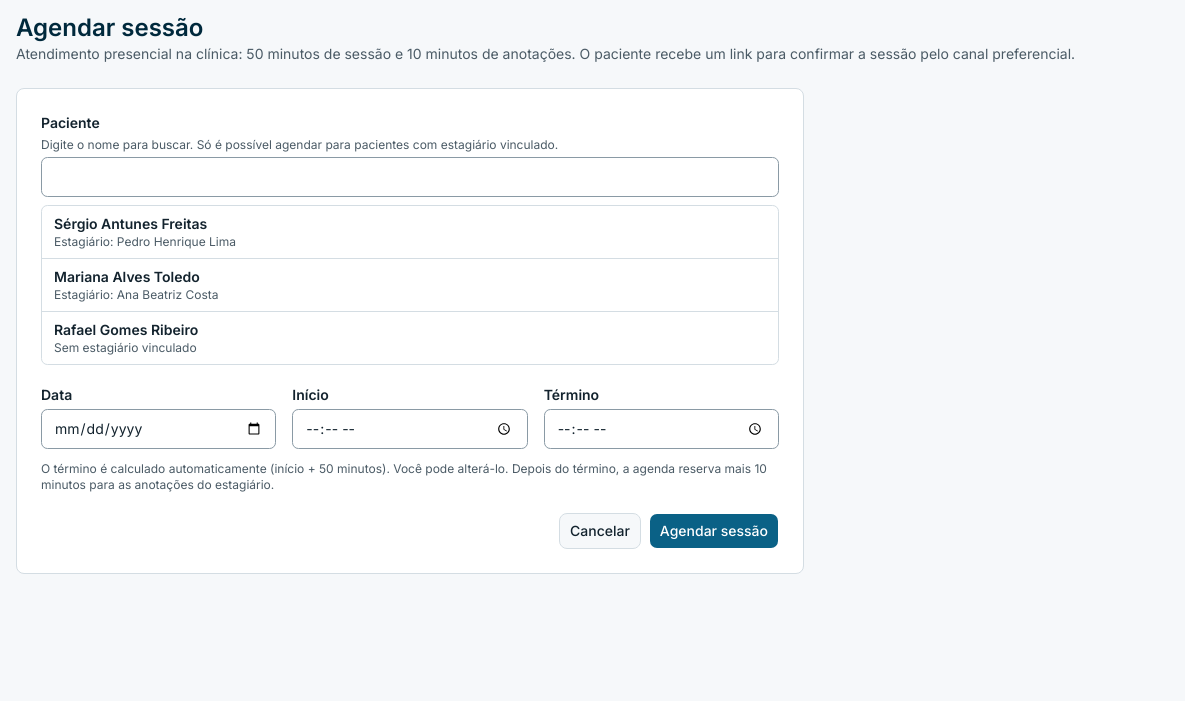
Test case: Agendar sessão (RF10) › no conflito, mostra a sessão ocupada e o primeiro horário livre
Click the button "Sérgio Antunes Freitas Estagiário: Pedro Henrique Lima".
click(131, 224)  # box [42,206,778,258]
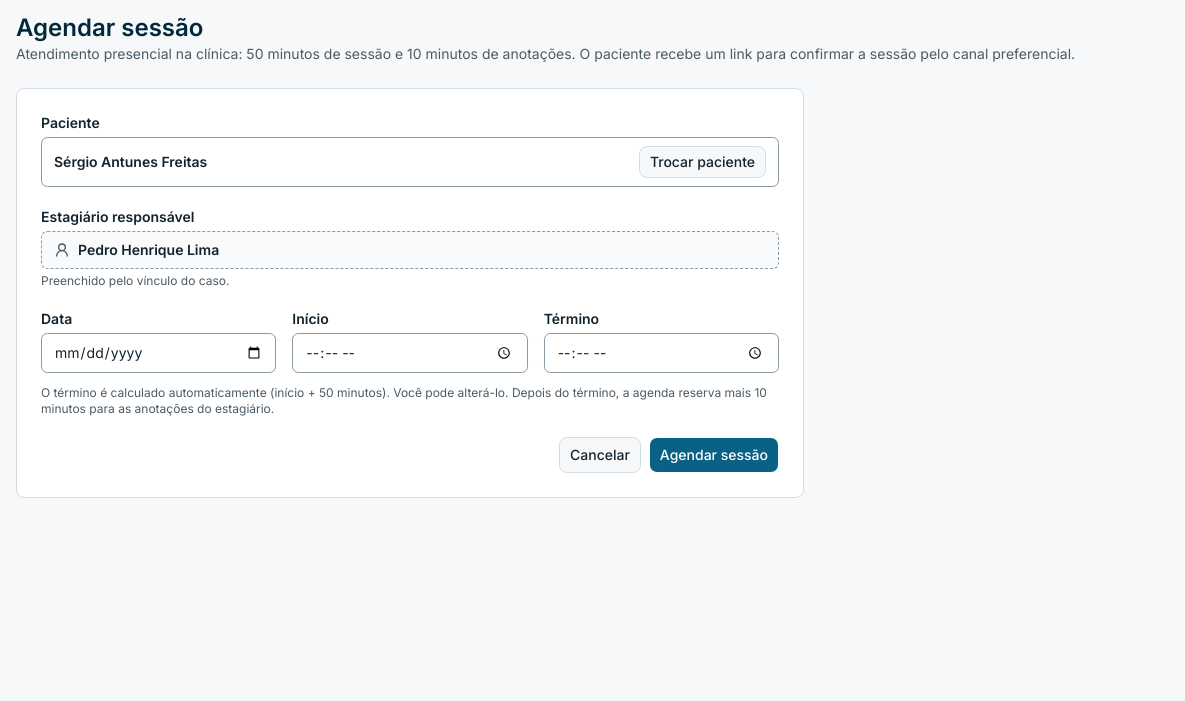
Type "2026-12-03" into the date field labelled "Data".
click(159, 353); type("2026-12-03")  # box [41,333,276,373]
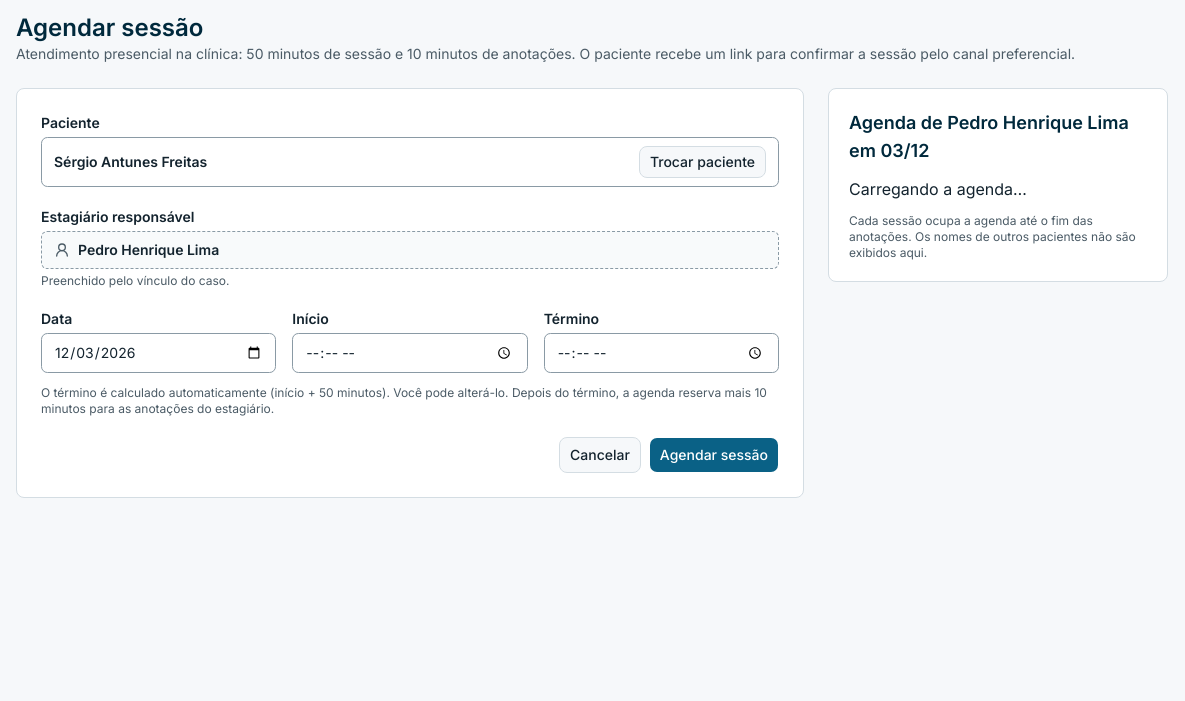
Type "14:50" into the time field labelled "Início".
click(410, 353); type("14:50")  # box [292,333,528,373]
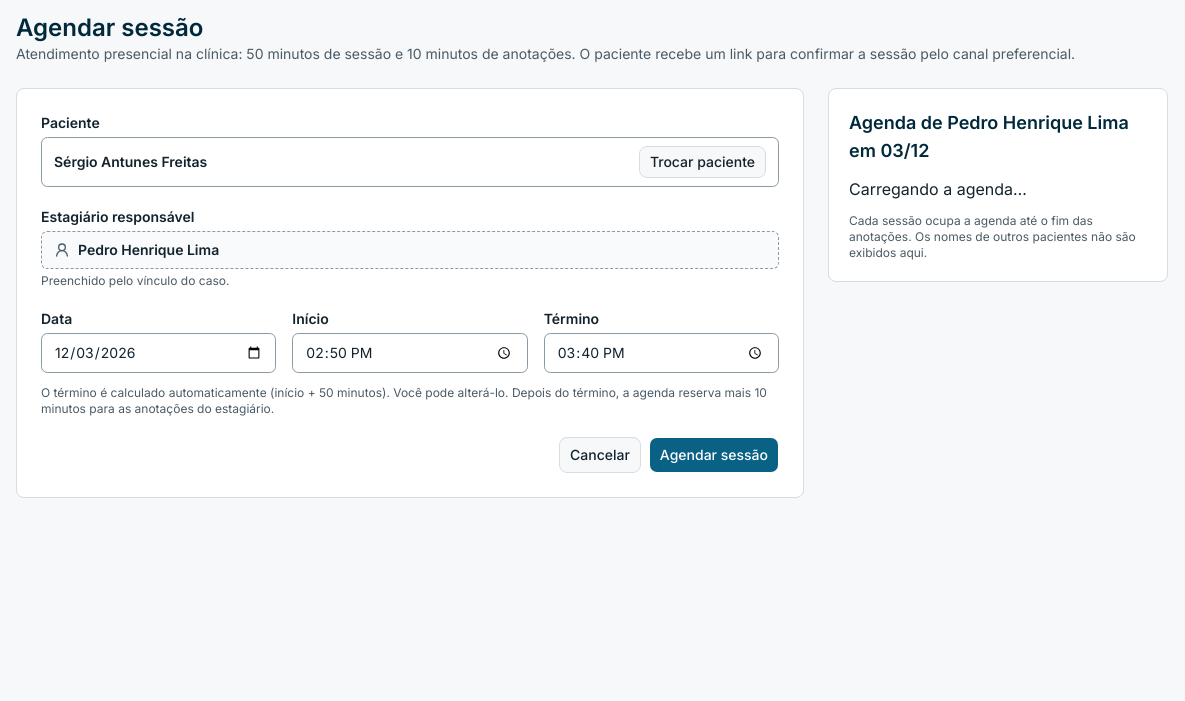
Click the button "Agendar sessão".
click(714, 455)  # box [649,437,779,473]
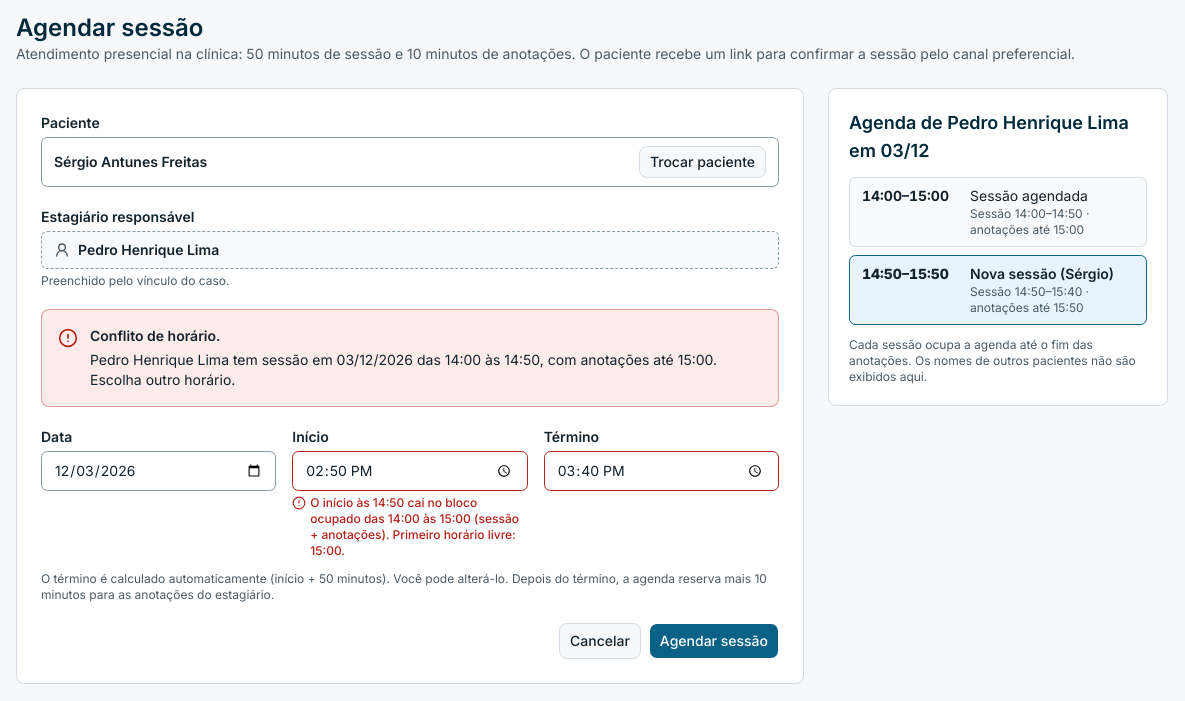
Result: the text "Pedro Henrique Lima tem sessão em 03/12/2026 das 14:00 às 14:50, com anotações até 15:00. Escolha outro horário." is shown at [90,351,717,388]
Result: the text "O início às 14:50 cai no bloco ocupado das 14:00 às 15:00 (sessão + anotações). Primeiro horário livre: 15:00." is shown at [310,495,519,558]
